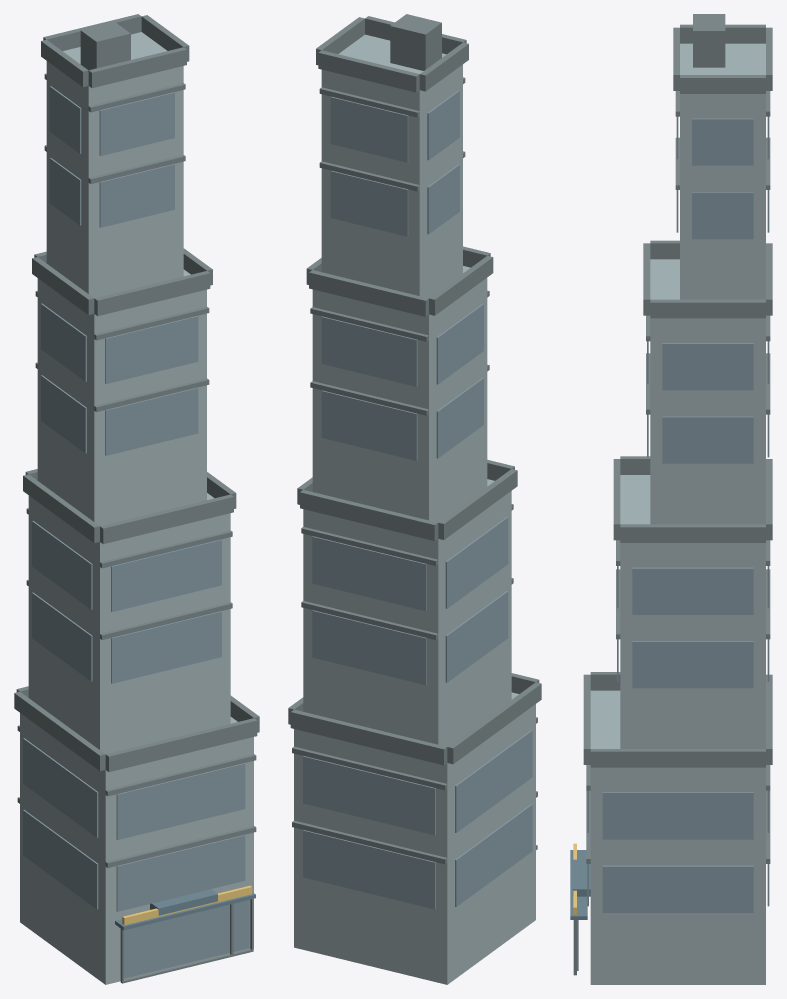
The model's file is commercial_1x1_terraces.glb.
The picture shows the model from 3 angles, left to right: view 1: azimuth 30°, elevation 25°; view 2: azimuth 150°, elevation 25°; view 3: azimuth 270°, elevation 25°; orthographic projection. The views are drawn at different scales.
Parts seen in each view (by area): view 1: commercial_1x1_terraces_0; view 2: commercial_1x1_terraces_0; view 3: commercial_1x1_terraces_0.
Part boxes in pixels (left/top/right/bottom): commercial_1x1_terraces_0: left=14, top=14, right=259, bottom=984; commercial_1x1_terraces_0: left=288, top=14, right=541, bottom=984; commercial_1x1_terraces_0: left=570, top=14, right=772, bottom=984.
Size of the model in its own units: 7 by 37.5 by 7.5.
